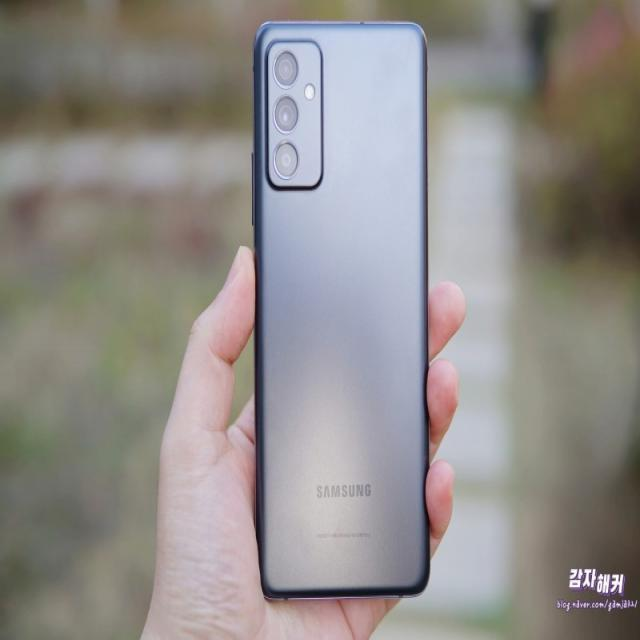lens: (268, 47, 320, 189)
phone: (255, 21, 434, 594)
